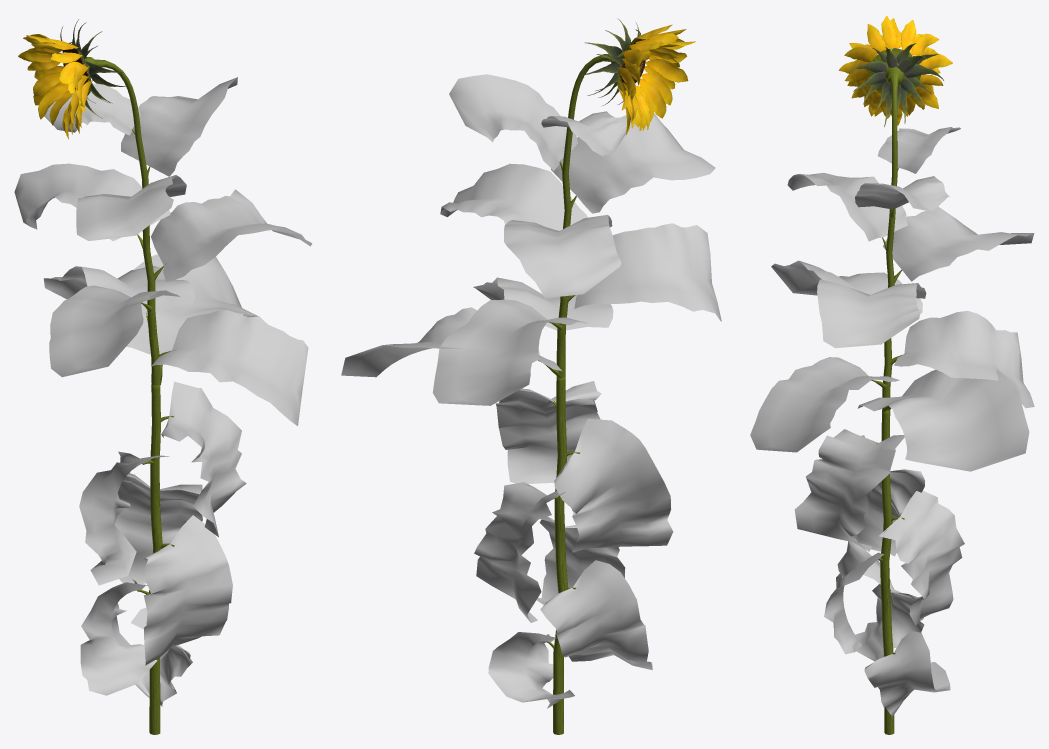
3 renders of one model, left to right at view 1: azimuth 30°, elevation 25°; view 2: azimuth 150°, elevation 25°; view 3: azimuth 270°, elevation 25°, orthographic. The views are drawn at different scales.
Visible parts, largest first — view 1: VG14_7; view 2: VG14_7; view 3: VG14_7.
Part boxes in pixels (x1=…): VG14_7: x1=14, y1=19, x2=312, y2=734; VG14_7: x1=341, y1=18, x2=721, y2=734; VG14_7: x1=750, y1=16, x2=1034, y2=734.
Size of the model in its own units: 0.8125 by 2.07 by 0.7976.
